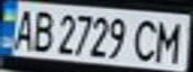2: (54, 9, 78, 56), (90, 12, 112, 60)
7: (72, 11, 93, 57)
9: (106, 14, 133, 61)
A: (9, 6, 39, 52)
B: (27, 7, 57, 53)
C: (127, 16, 163, 63)
M: (151, 17, 190, 64)
